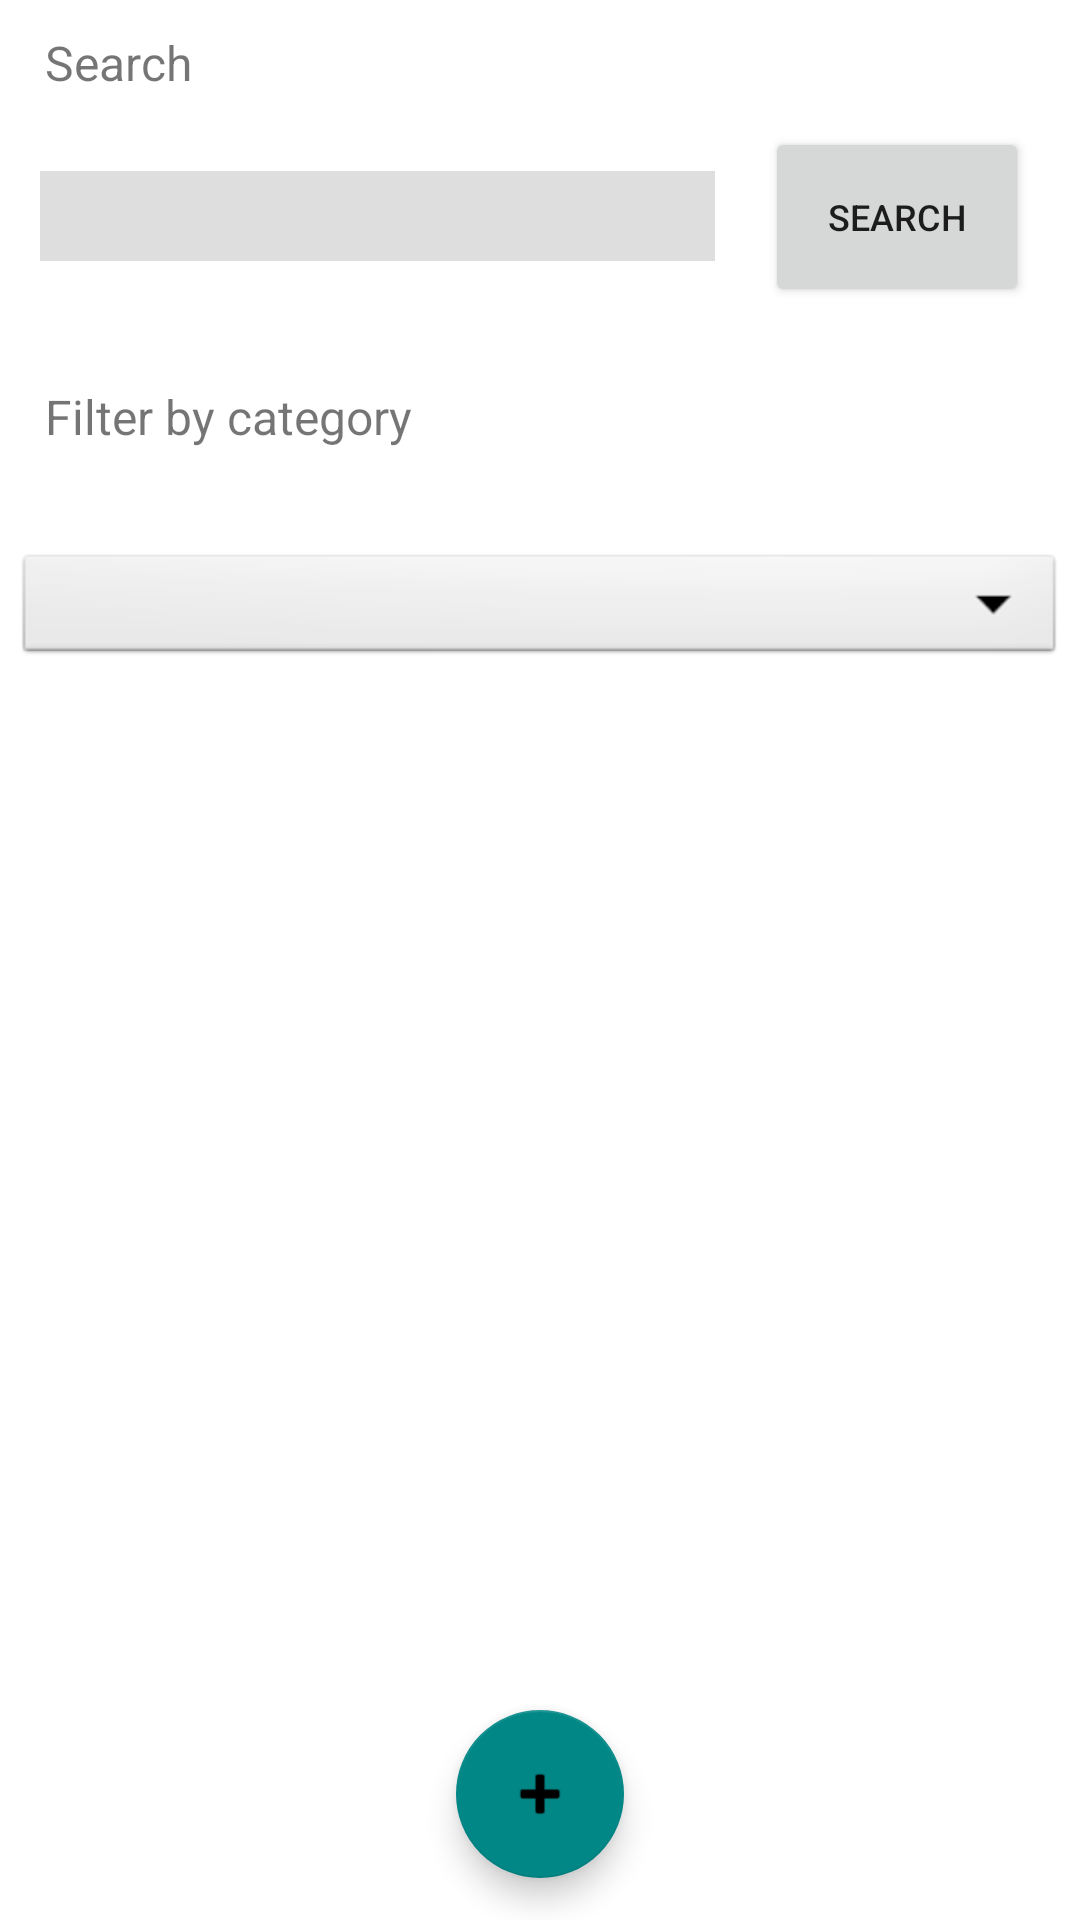

Named icons in this screenshot (1080px×1920px) and their centers, point (x, y):
add: point (540, 1794)
